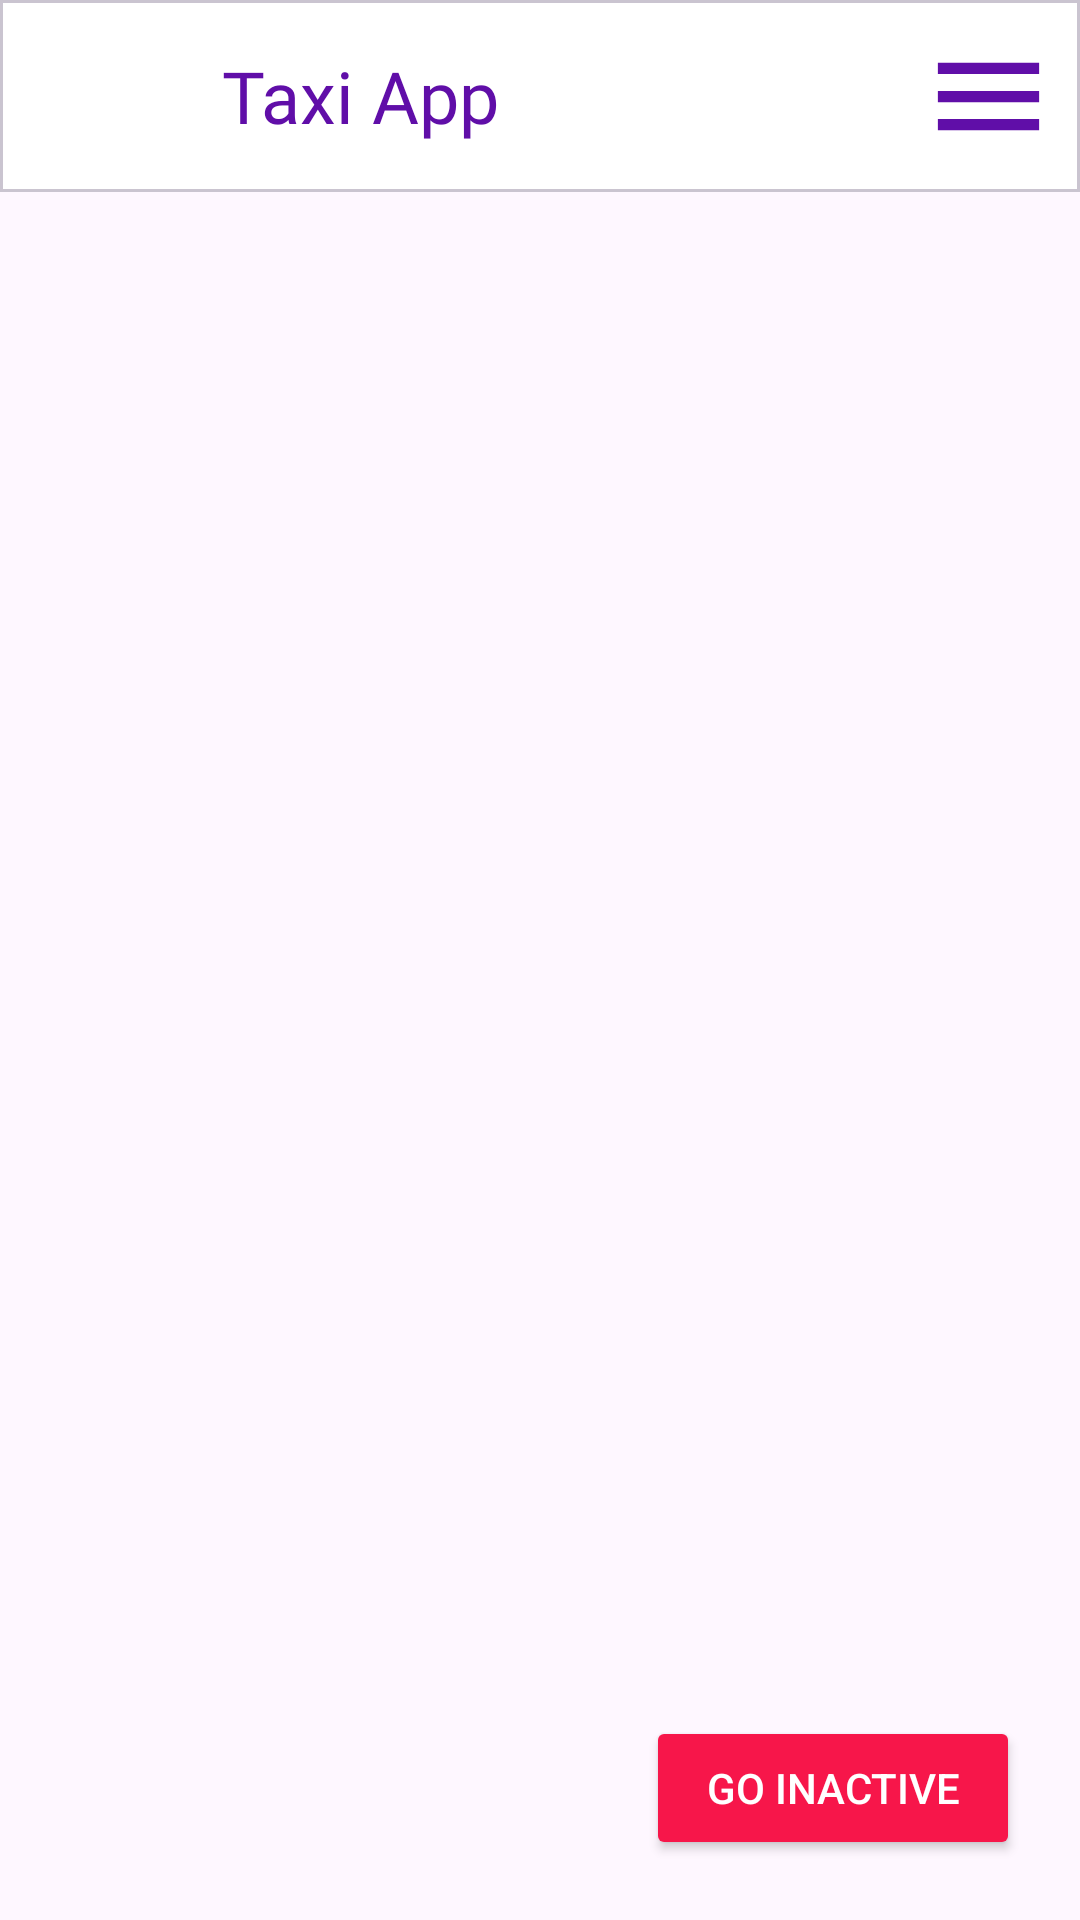

Screen size 1080w x 1920h. Icon name, then its center in pixels as (x,y):
menu: (988,96)
